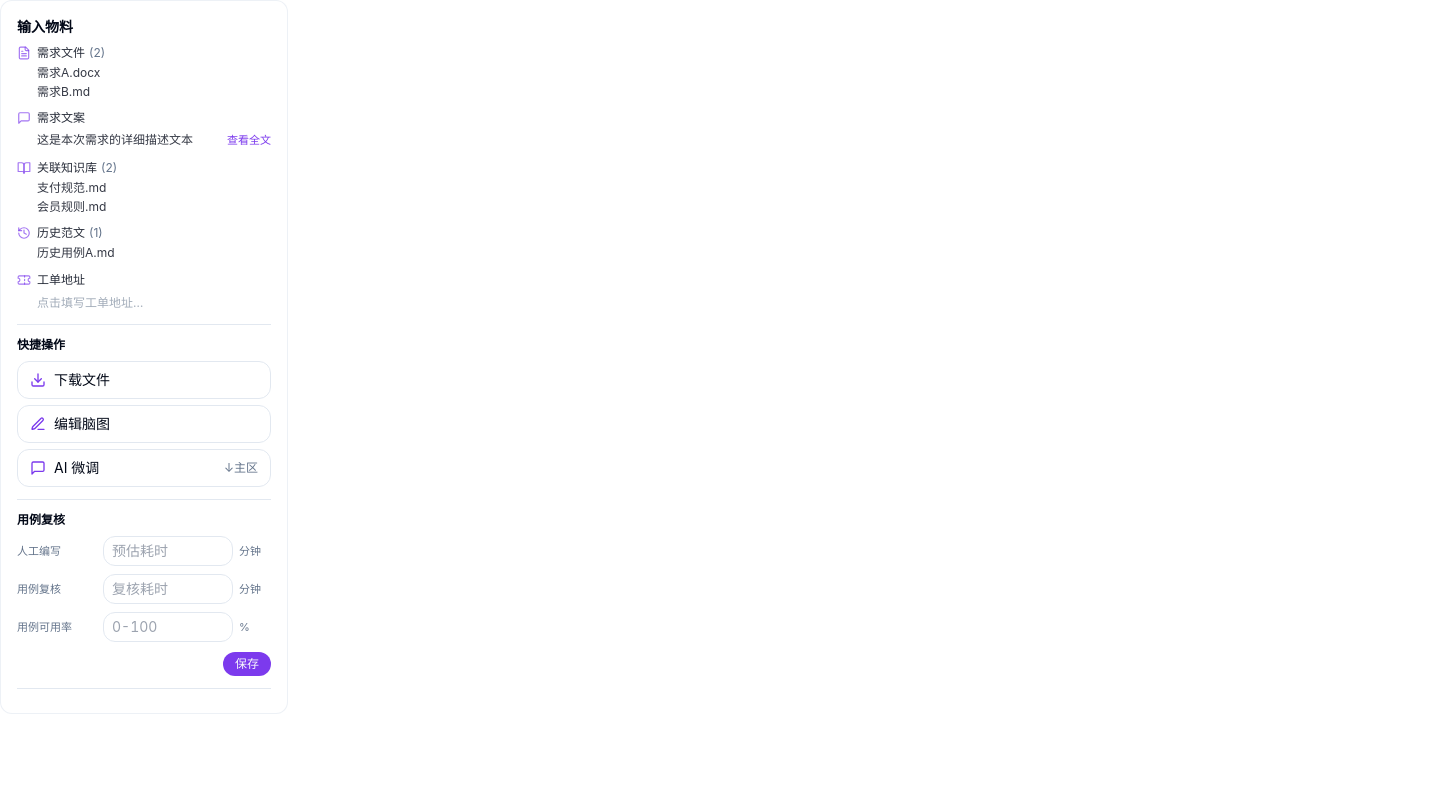
Test: ExecutionPanel › Step 2 complete: materials + quick actions + rating › opens download modal on 下载文件 click
Click the button "下载文件".
click(144, 380)  # box left=17, top=360, right=271, bottom=398
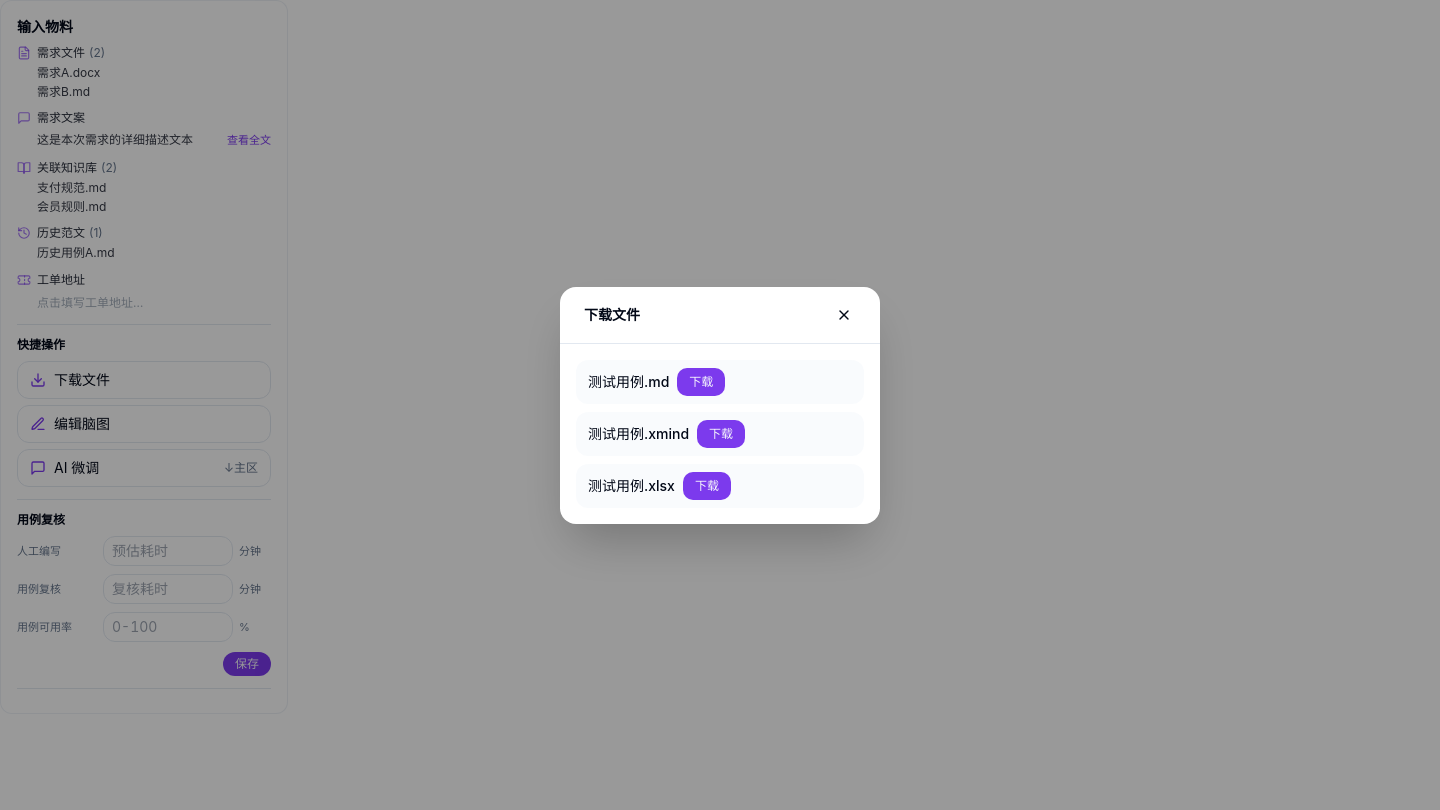
Now the heading "下载文件" is shown, box left=584, top=304, right=640, bottom=324
